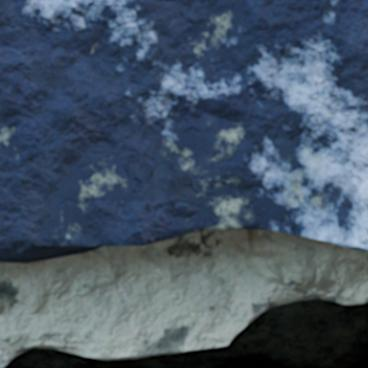brick: (0, 0, 367, 262)
crack: (2, 290, 367, 367)
